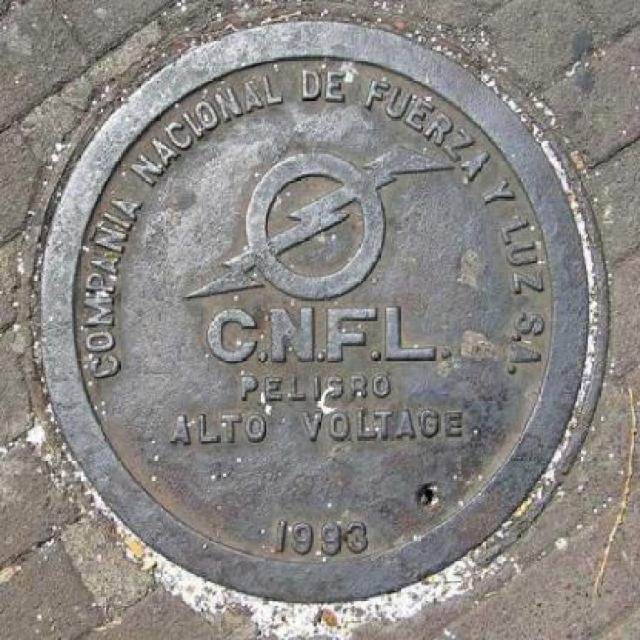Manhole: (16, 2, 622, 616)
